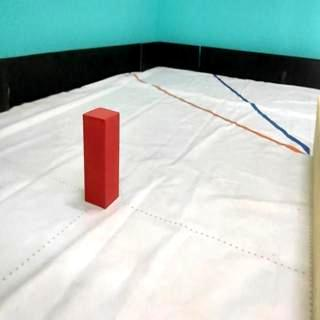redbox: (83, 106, 121, 209)
